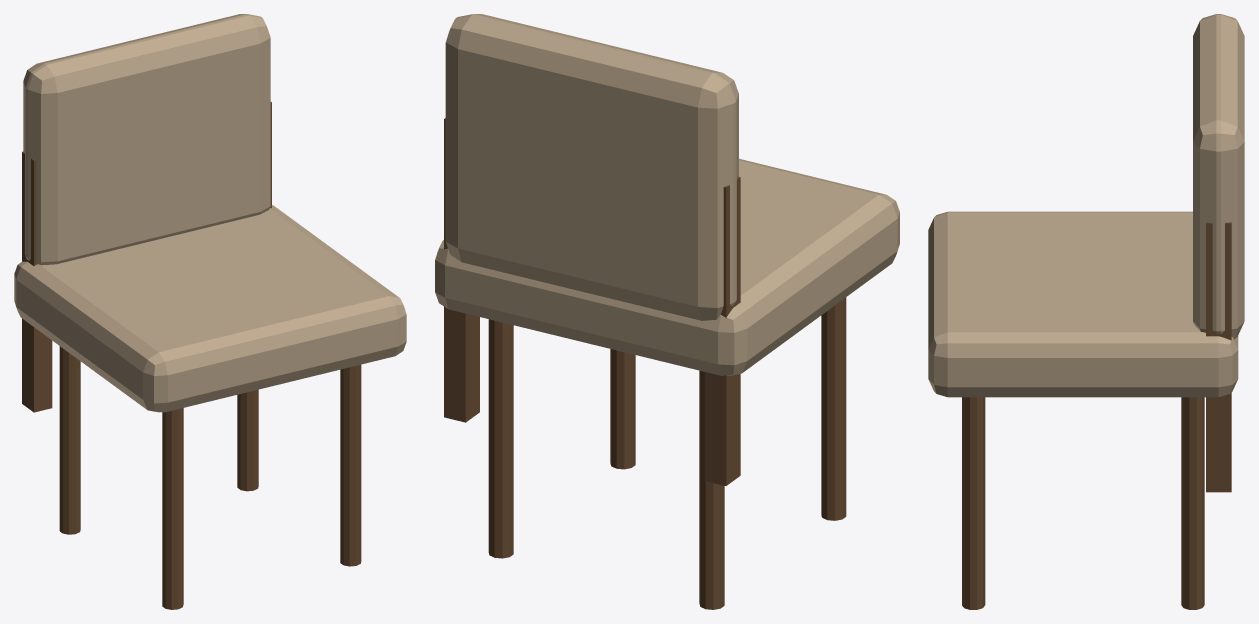
The picture shows the model from 3 angles, left to right: view 1: azimuth 30°, elevation 25°; view 2: azimuth 150°, elevation 25°; view 3: azimuth 270°, elevation 25°; orthographic projection. The views are drawn at different scales.
Visible parts, largest first — view 1: dining-chair; view 2: dining-chair; view 3: dining-chair.
Boxes of the visible parts, box(x1,y1,x2,y2) form: dining-chair: box(14, 14, 406, 609); dining-chair: box(435, 14, 899, 609); dining-chair: box(928, 14, 1244, 609).
Bounding box in the file's own units: 0.5 × 0.84 × 0.49.
